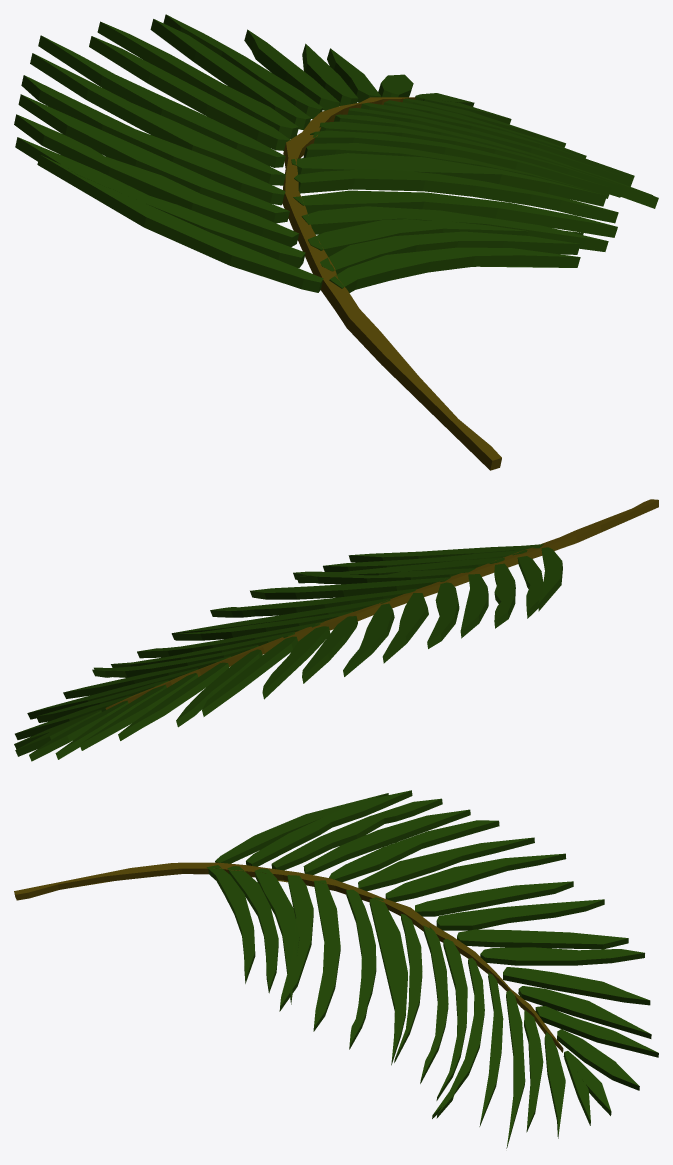
Rendered from 3d curved palm tree leaf.fbx.
The picture shows the model from 3 angles, top to bottom: view 1: azimuth 30°, elevation 25°; view 2: azimuth 150°, elevation 25°; view 3: azimuth 270°, elevation 25°; orthographic projection. The views are drawn at different scales.
Visible parts, largest first — view 1: polySurface36; view 2: polySurface36; view 3: polySurface36.
Part boxes in pixels (x1=…): polySurface36: x1=14, y1=14, x2=658, y2=470; polySurface36: x1=14, y1=499, x2=658, y2=761; polySurface36: x1=14, y1=790, x2=658, y2=1148.
Size of the model in its own units: 22.64 by 8.6 by 30.91.
